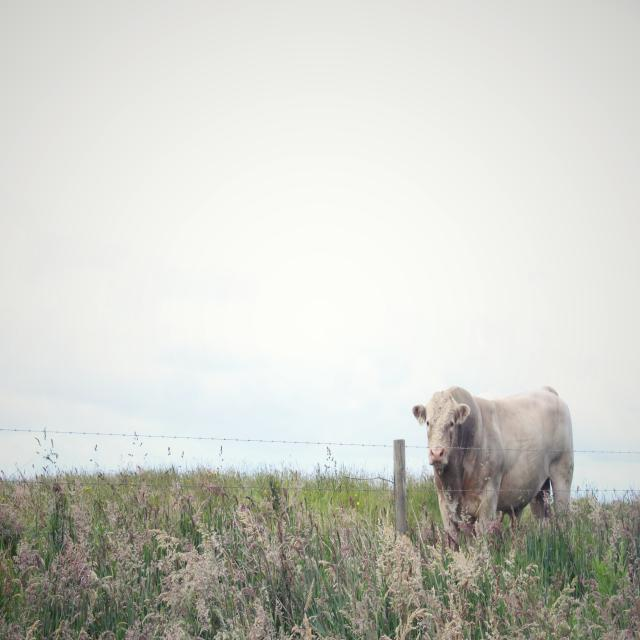cow: (412, 386, 574, 531), (464, 431, 466, 442)
